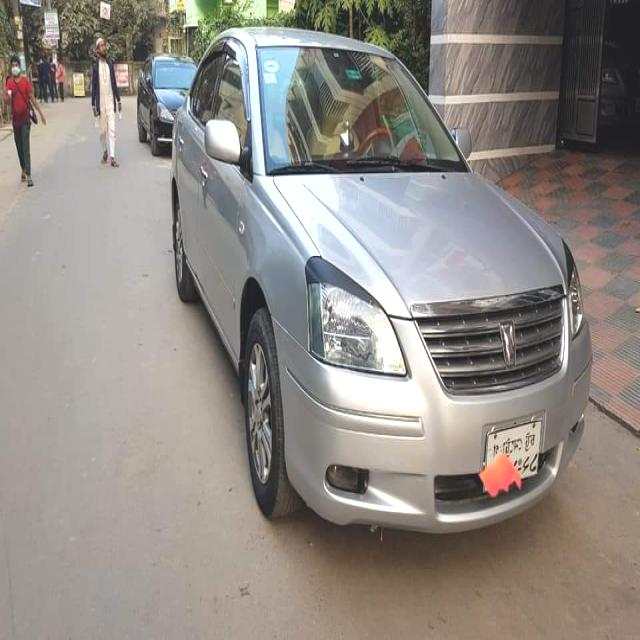black: (124, 5, 198, 151)
silver: (179, 17, 588, 532)
